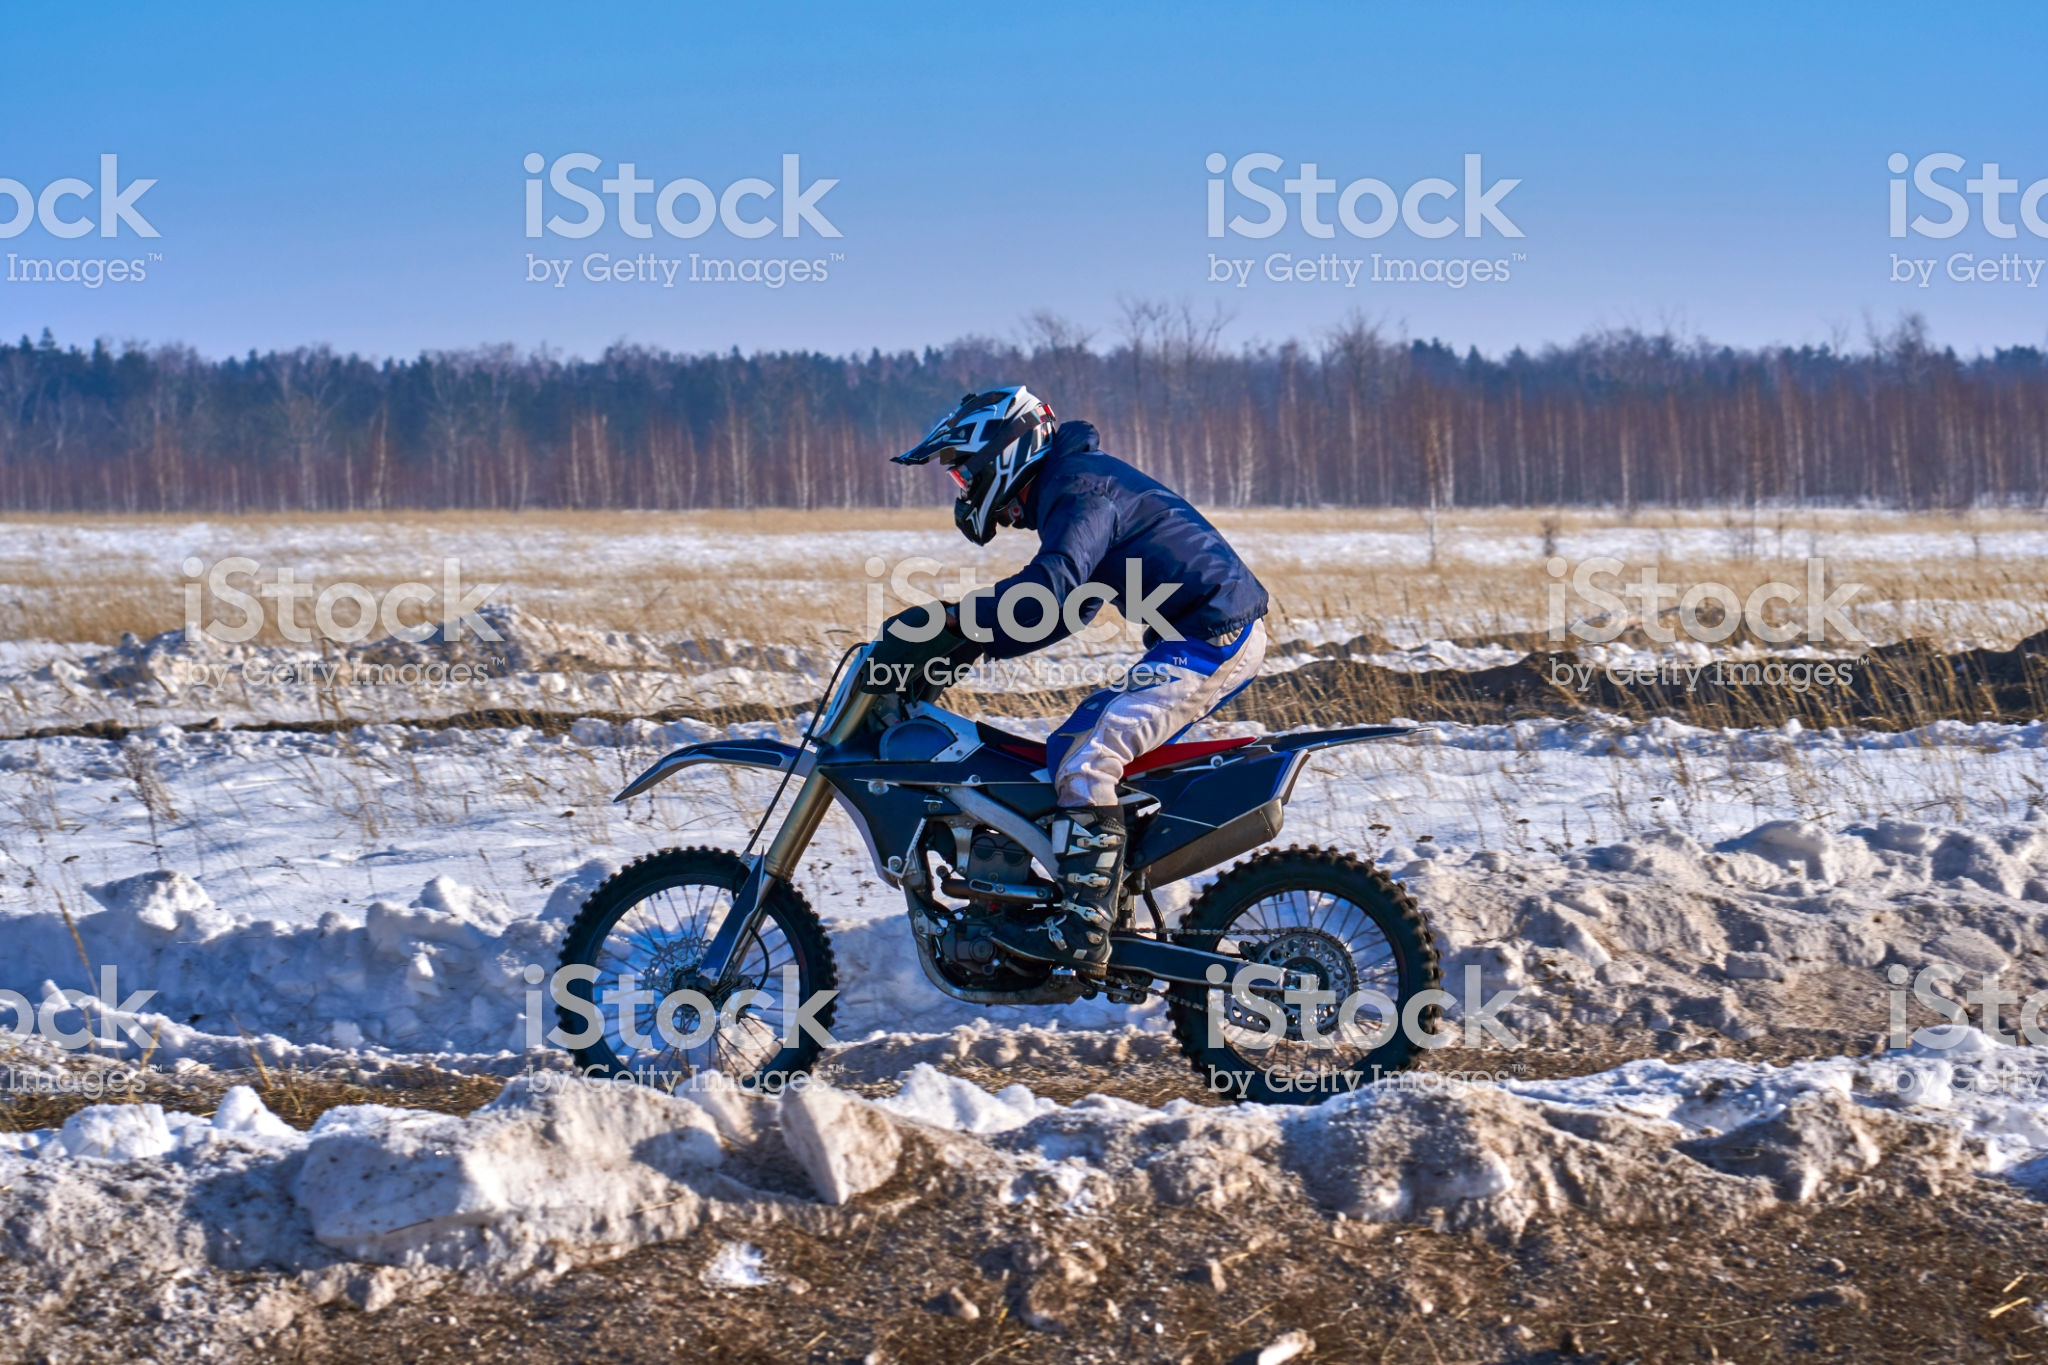helmet: (921, 356, 1063, 513)
